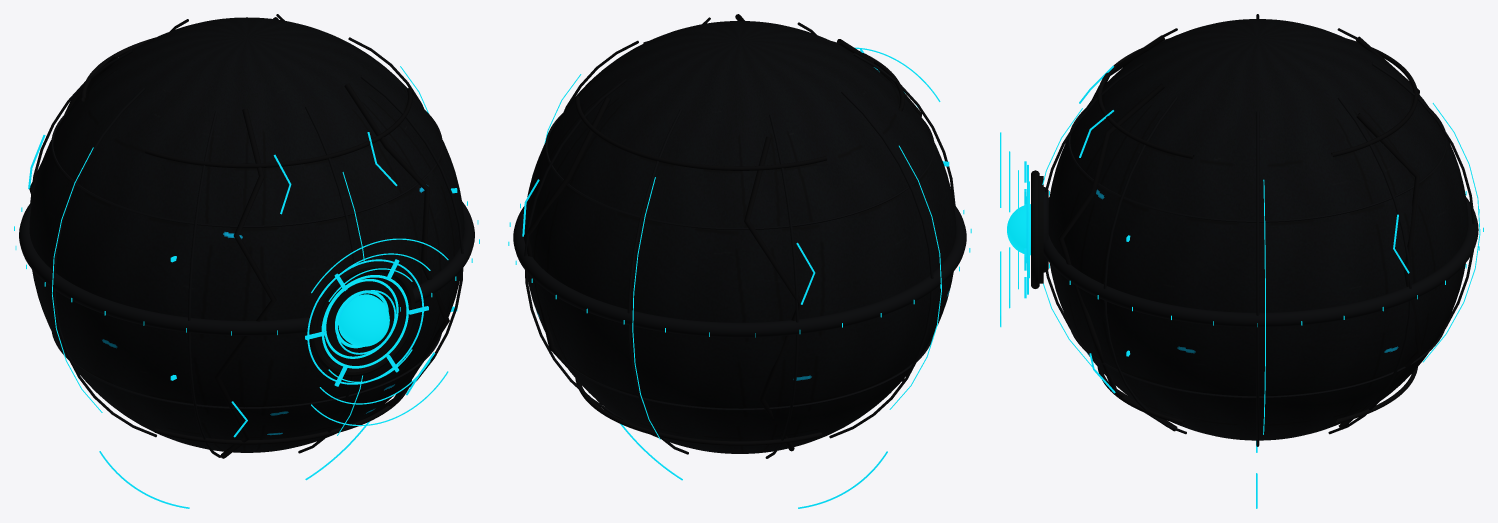
The model's file is SonarProbeBall_BaseModel.glb.
The picture shows the model from 3 angles, left to right: view 1: azimuth 30°, elevation 25°; view 2: azimuth 150°, elevation 25°; view 3: azimuth 270°, elevation 25°; orthographic projection. The views are drawn at different scales.
Visible parts, largest first — view 1: Shell_DarkSegmentedSphere, Equator_DarkRaisedBelt, Detail_FrontEmitterRecess_DarkDisk, Detail_FrontEmitterOuterBezel, ArmorBoundary_FrontLeft_KinkedPlate.001, Core_SmokedFrontLens, ArmorBoundary_FrontRight_KinkedPlate.001, ArmorBoundary_TopFrontCapArc.001, Detail_LatitudePanelGroove_Upper, ArmorBoundary_LowerFrontCapArc.001, PanelSeam_Dark_180, Detail_LatitudePanelGroove_Lower (+7 smaller); view 2: Shell_DarkSegmentedSphere, Equator_DarkRaisedBelt, ArmorBoundary_BackLeft_KinkedPlate.001, ArmorBoundary_TopBackCapArc.001, Detail_LatitudePanelGroove_Upper, ArmorBoundary_LowerBackCapArc.001, PanelSeam_Dark_180, ArmorBoundary_BackRight_KinkedPlate.001, PanelSeam_Dark_045, PanelSeam_Dark_090, PanelSeam_Dark_135, Detail_LatitudePanelGroove_Lower (+1 smaller); view 3: Shell_DarkSegmentedSphere, Equator_DarkRaisedBelt, ArmorBoundary_FrontRight_KinkedPlate.001, ArmorBoundary_BackRight_KinkedPlate.001, Detail_LatitudePanelGroove_Upper, PanelSeam_Dark_000, PanelSeam_Dark_315, PanelSeam_Dark_045, Detail_LatitudePanelGroove_Lower, Detail_FrontEmitterOuterBezel, ArmorBoundary_TopBackCapArc.001, PanelSeam_Dark_090 (+4 smaller).
Boxes of the visible parts, x1=… form: Shell_DarkSegmentedSphere: x1=29, y1=17, x2=464, y2=452; Equator_DarkRaisedBelt: x1=19, y1=201, x2=474, y2=335; Detail_FrontEmitterRecess_DarkDisk: x1=317, y1=271, x2=406, y2=365; Detail_FrontEmitterOuterBezel: x1=309, y1=262, x2=415, y2=376; ArmorBoundary_FrontLeft_KinkedPlate.001: x1=214, y1=108, x2=276, y2=458; Core_SmokedFrontLens: x1=338, y1=294, x2=389, y2=346; ArmorBoundary_FrontRight_KinkedPlate.001: x1=344, y1=83, x2=449, y2=418; ArmorBoundary_TopFrontCapArc.001: x1=145, y1=87, x2=412, y2=168; Detail_LatitudePanelGroove_Upper: x1=51, y1=110, x2=442, y2=227; ArmorBoundary_LowerFrontCapArc.001: x1=154, y1=380, x2=411, y2=444; PanelSeam_Dark_180: x1=52, y1=87, x2=156, y2=437; Detail_LatitudePanelGroove_Lower: x1=52, y1=332, x2=441, y2=409; Shell_DarkSegmentedSphere: x1=524, y1=21, x2=956, y2=453; Equator_DarkRaisedBelt: x1=513, y1=206, x2=966, y2=337; ArmorBoundary_BackLeft_KinkedPlate.001: x1=744, y1=136, x2=803, y2=451; ArmorBoundary_TopBackCapArc.001: x1=575, y1=95, x2=827, y2=170; Detail_LatitudePanelGroove_Upper: x1=545, y1=113, x2=934, y2=229; ArmorBoundary_LowerBackCapArc.001: x1=575, y1=378, x2=822, y2=445; PanelSeam_Dark_180: x1=829, y1=91, x2=933, y2=438; ArmorBoundary_BackRight_KinkedPlate.001: x1=523, y1=97, x2=610, y2=404; PanelSeam_Dark_045: x1=524, y1=79, x2=626, y2=419; PanelSeam_Dark_090: x1=627, y1=109, x2=688, y2=454; PanelSeam_Dark_135: x1=765, y1=114, x2=798, y2=458; Detail_LatitudePanelGroove_Lower: x1=560, y1=334, x2=933, y2=410; Shell_DarkSegmentedSphere: x1=1048, y1=19, x2=1468, y2=440; Equator_DarkRaisedBelt: x1=1043, y1=197, x2=1478, y2=327; ArmorBoundary_FrontRight_KinkedPlate.001: x1=1058, y1=83, x2=1177, y2=431; ArmorBoundary_BackRight_KinkedPlate.001: x1=1338, y1=113, x2=1422, y2=429; Detail_LatitudePanelGroove_Upper: x1=1068, y1=108, x2=1447, y2=222; PanelSeam_Dark_000: x1=1256, y1=111, x2=1259, y2=446; PanelSeam_Dark_315: x1=1103, y1=97, x2=1186, y2=434; PanelSeam_Dark_045: x1=1328, y1=97, x2=1411, y2=434; Detail_LatitudePanelGroove_Lower: x1=1068, y1=323, x2=1446, y2=398; Detail_FrontEmitterOuterBezel: x1=1031, y1=170, x2=1039, y2=288; ArmorBoundary_TopBackCapArc.001: x1=1331, y1=38, x2=1418, y2=156; PanelSeam_Dark_090: x1=1371, y1=62, x2=1474, y2=328.
Size of the model in its own units: 0.2144 by 0.2313 by 0.2294.
Materials: 9 (1 with a texture image).
